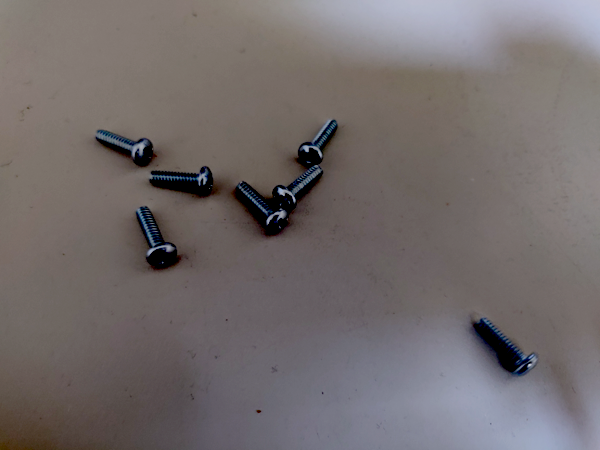shortscrew: (475, 317, 539, 379), (236, 181, 289, 233), (136, 207, 177, 266), (273, 165, 324, 211), (95, 129, 154, 165), (150, 166, 213, 196), (299, 119, 339, 165)
